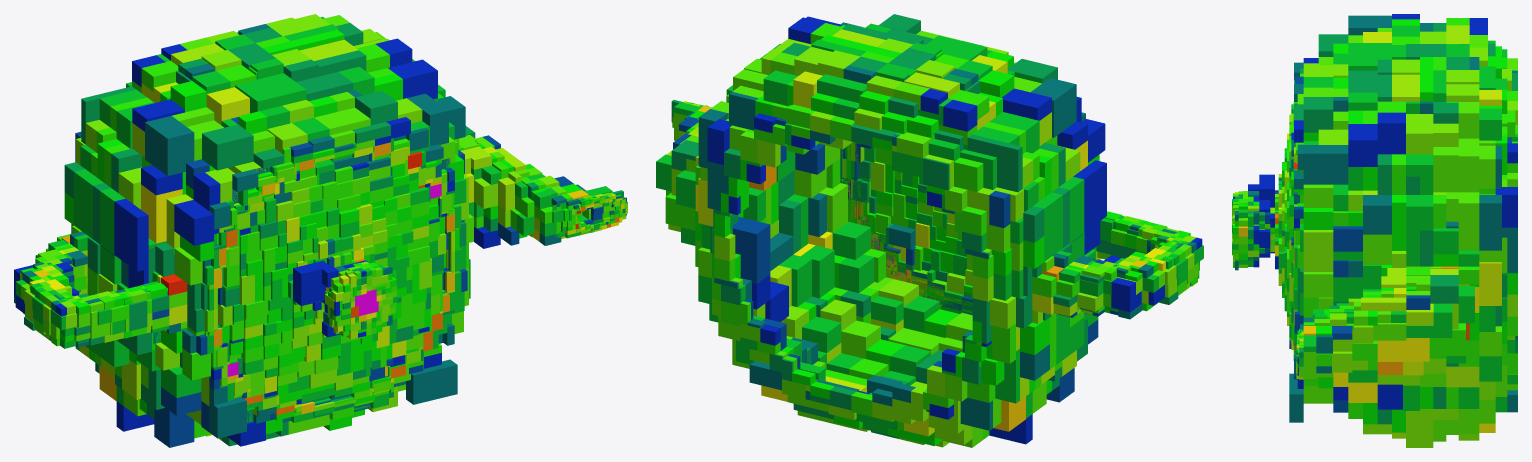
The model's file is kdtree.obj.
3 views of the same model, side by side, from view 1: azimuth 30°, elevation 25°; view 2: azimuth 150°, elevation 25°; view 3: azimuth 270°, elevation 25° (orthographic). The views are drawn at different scales.
Parts seen in each view (by area): view 1: node7698, node6944, node12296, node15088, node8596, node19588, node2714, node1522, node9732, node7594, node19608, node7824 (+33 smaller); view 2: node12988, node7230, node6944, node7698, node13388, node7692, node13330, node13374, node13092, node13326, node13124, node6942 (+68 smaller); view 3: node19608, node19282, node19588, node19906, node19460, node19908, node19186, node19198, node20204, node19454, node19544, node13134 (+104 smaller).
Boxes of the visible parts, box(x1,y1,x2,y2) form: node7698: box(145, 116, 194, 175); node6944: box(114, 198, 148, 271); node12296: box(202, 124, 253, 170); node15088: box(406, 359, 457, 404); node8596: box(174, 200, 213, 245); node19588: box(388, 59, 437, 99); node2714: box(209, 397, 246, 438); node1522: box(154, 408, 194, 447); node9732: box(293, 261, 330, 305); node7594: box(141, 184, 182, 243); node19608: box(407, 93, 448, 146); node7824: box(206, 87, 249, 125); node12988: box(732, 216, 770, 283); node7230: box(967, 134, 1022, 192); node6944: box(1073, 160, 1106, 232); node7698: box(1030, 78, 1076, 137); node13388: box(832, 221, 870, 259); node7692: box(1002, 88, 1051, 120); node13330: box(801, 245, 834, 298); node13374: box(839, 254, 874, 292); node13092: box(841, 320, 880, 358); node13326: box(779, 254, 811, 307); node13124: box(802, 316, 841, 352); node6942: box(1059, 176, 1084, 242); node19608: box(1303, 145, 1348, 184); node19282: box(1303, 230, 1333, 271); node19588: box(1348, 124, 1377, 166); node19906: box(1479, 195, 1501, 250); node19460: box(1377, 112, 1405, 154); node19908: box(1458, 195, 1479, 250); node19186: box(1458, 138, 1479, 192); node19198: box(1433, 147, 1458, 192); node20204: box(1363, 195, 1391, 234); node19454: box(1406, 114, 1433, 154); node19544: box(1303, 97, 1333, 132); node13134: box(1406, 409, 1433, 447).
Size of the model in its own units: 257 by 160 by 120.
